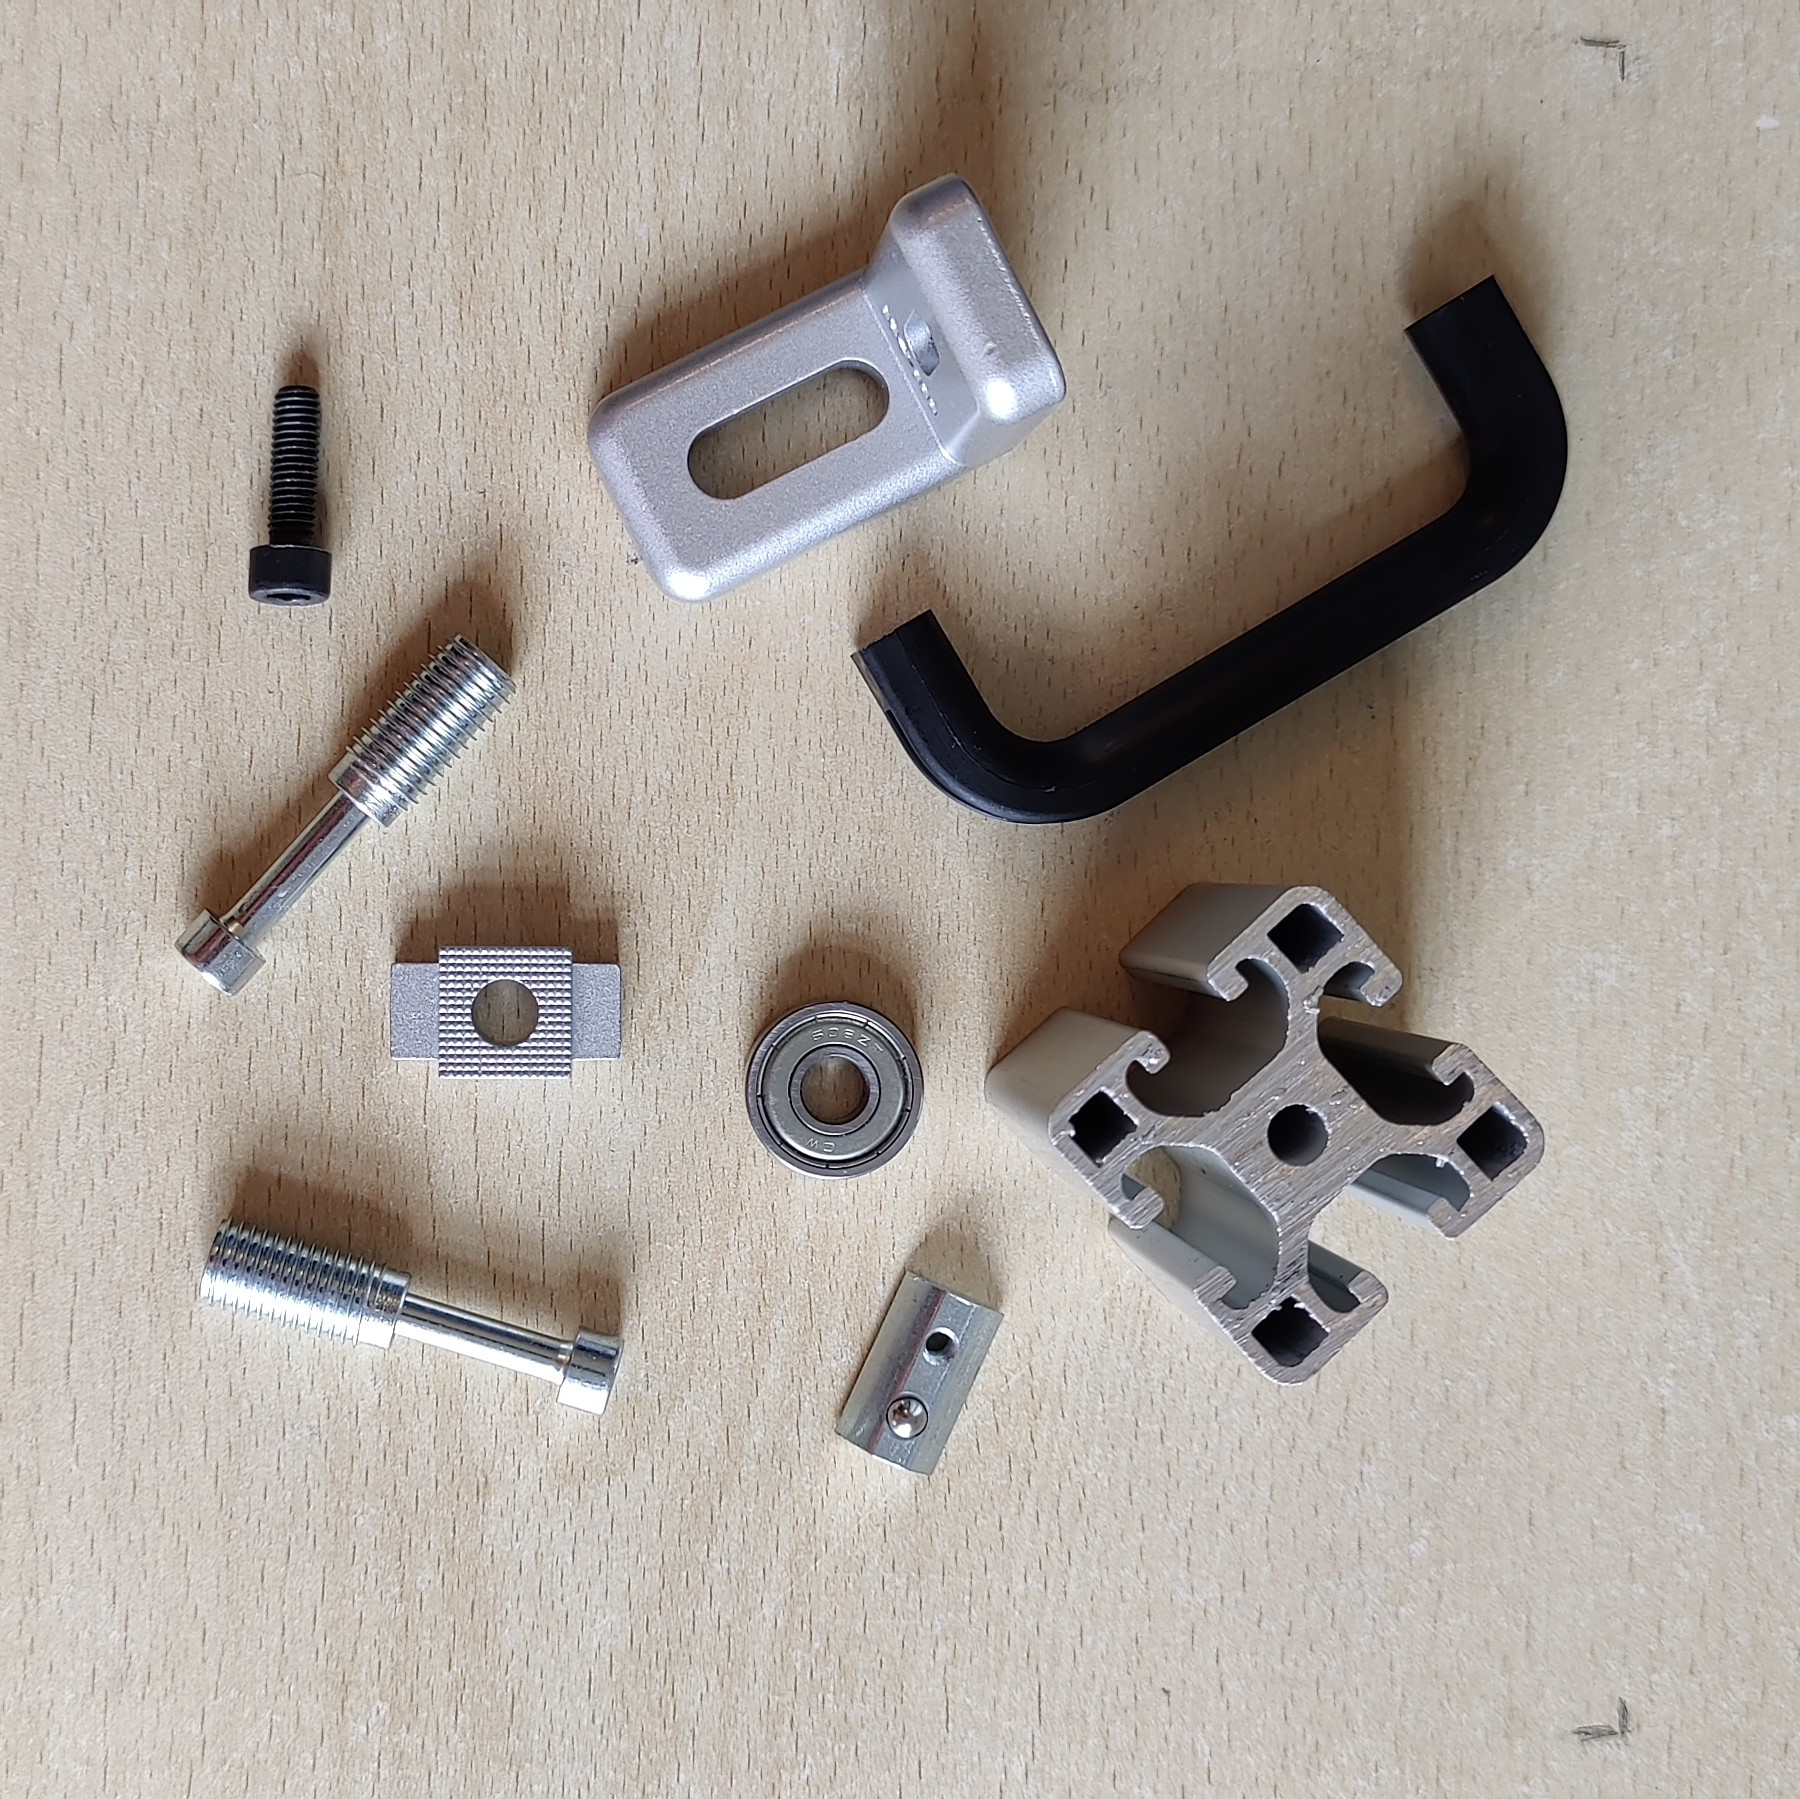Aluminium Extension: (978, 876, 1546, 1389)
Ball Bearing: (743, 995, 929, 1181)
Multiwinkel: (586, 168, 1070, 606)
Pull Handle: (846, 270, 1573, 827)
Shoulder Socket Head Cap Screw: (173, 629, 524, 998), (193, 1217, 627, 1418)
Socket Head Cap Screw: (245, 381, 338, 610)
T Nut Square: (389, 937, 627, 1079)
T Spring Nut: (828, 1265, 1006, 1479)
